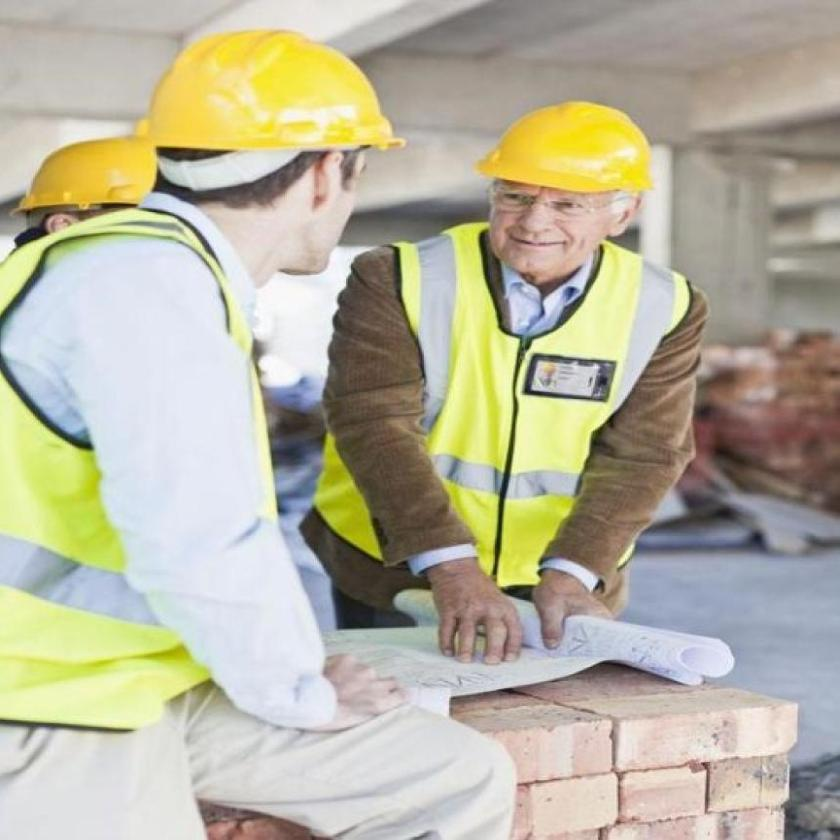Con_casco: (152, 33, 400, 301), (476, 54, 678, 290), (19, 133, 168, 259)
